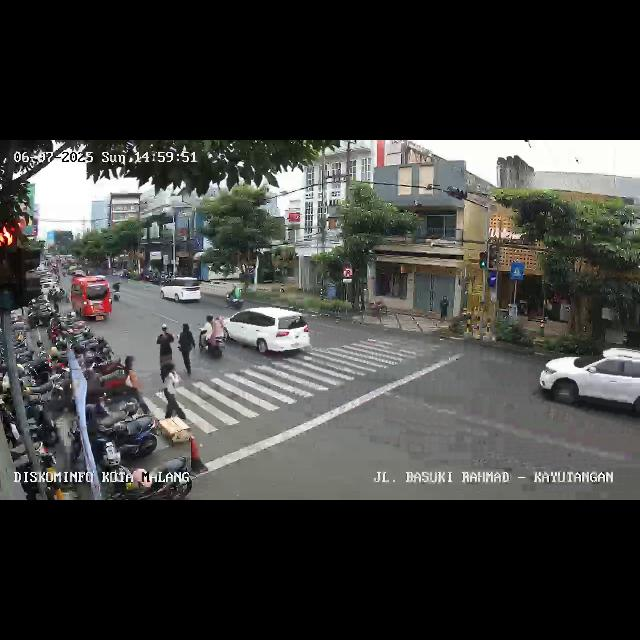car: (540, 347, 638, 421), (224, 307, 312, 361), (70, 274, 112, 322), (160, 277, 202, 305)
motorcycle: (202, 313, 228, 361), (226, 284, 244, 308), (111, 280, 121, 304)
person: (159, 360, 187, 424), (156, 325, 177, 395), (178, 324, 196, 374), (122, 356, 136, 396)
